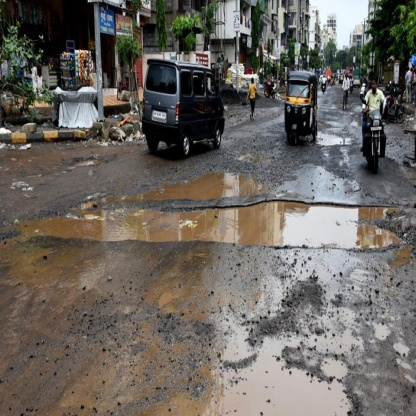pothole: (16, 189, 404, 263), (222, 320, 365, 416)
